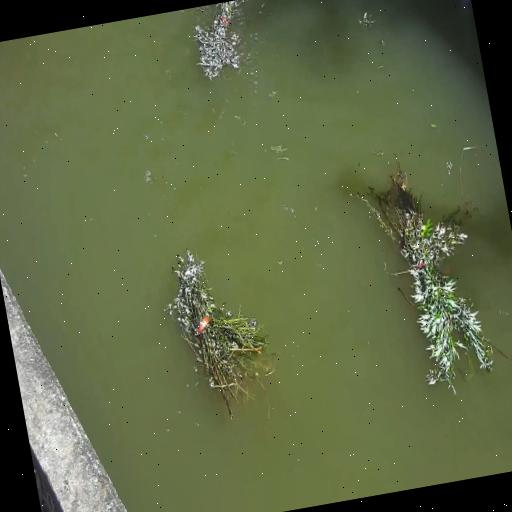twig: (344, 139, 512, 404), (157, 234, 283, 430), (188, 0, 270, 89)
